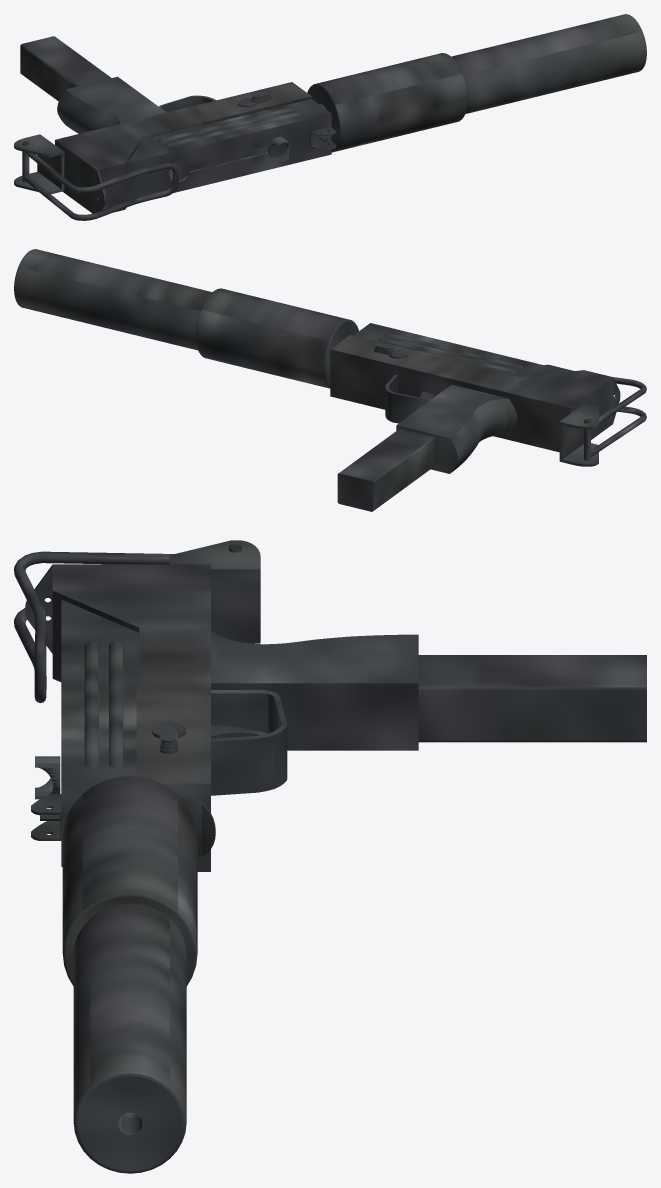
The model's file is Mac-10_World.dae.
3 renders of one model, top to bottom at view 1: azimuth 30°, elevation 25°; view 2: azimuth 150°, elevation 25°; view 3: azimuth 270°, elevation 25°, orthographic. The views are drawn at different scales.
Visible parts, largest first — view 1: Mac-10, Magazine, Charging Handle; view 2: Mac-10, Magazine; view 3: Mac-10, Magazine.
Part boxes in pixels (bbox=[...]): Mac-10: bbox=[14, 14, 646, 220]; Magazine: bbox=[20, 36, 111, 101]; Charging Handle: bbox=[268, 137, 289, 162]; Mac-10: bbox=[14, 249, 646, 473]; Magazine: bbox=[337, 428, 434, 511]; Mac-10: bbox=[14, 540, 418, 1173]; Magazine: bbox=[418, 655, 646, 742].
Bounding box in the file's own units: 0.5734 × 0.2808 × 0.0598.
Materials: 1 (1 with a texture image).
